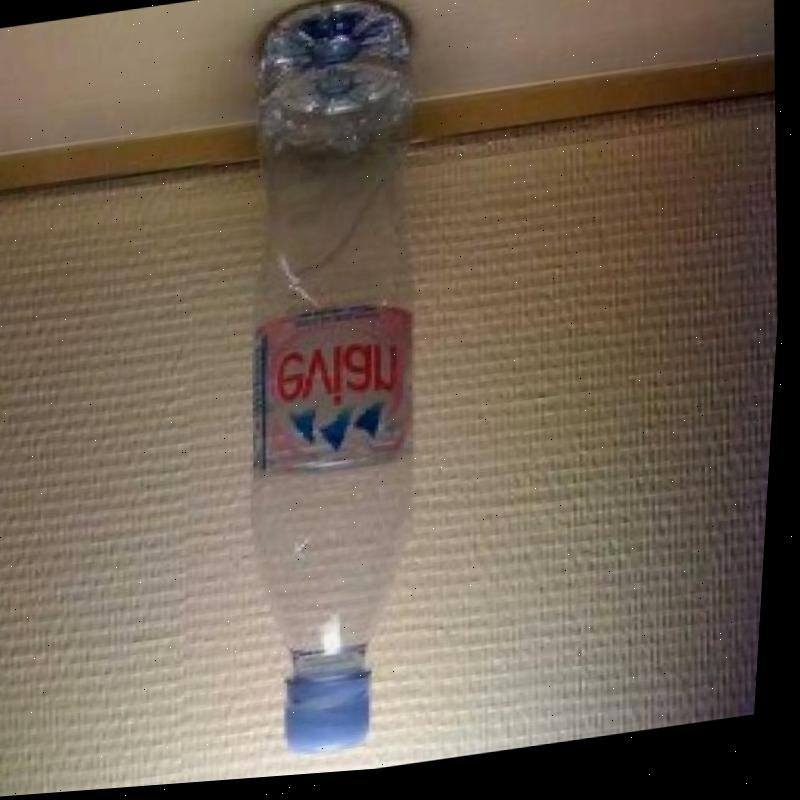botella: (210, 0, 467, 765)
